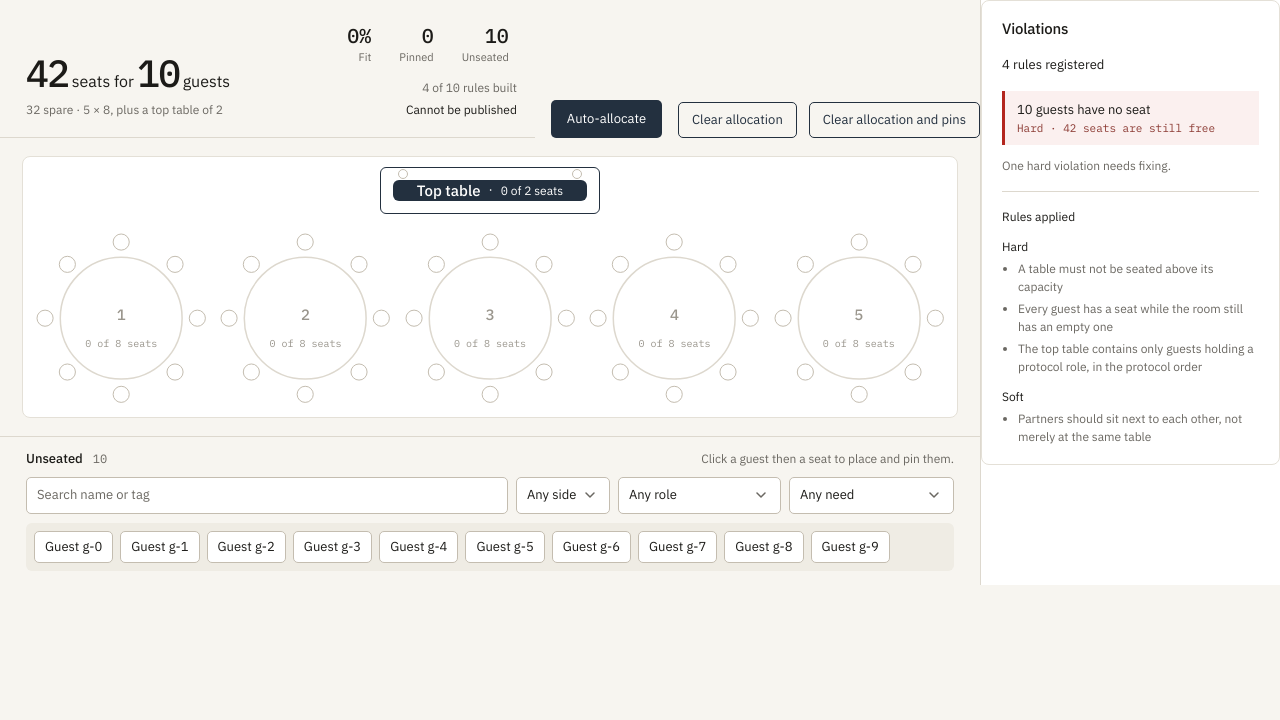
TT-48 — the coverage factor, driven end to end through the real PlanScreen › after Auto-allocate on a room with spare seats, Fit rises above zero and every violation clears (TT-47)
Click the button "Auto-allocate" at (606, 119), box left=551, top=100, right=662, bottom=138
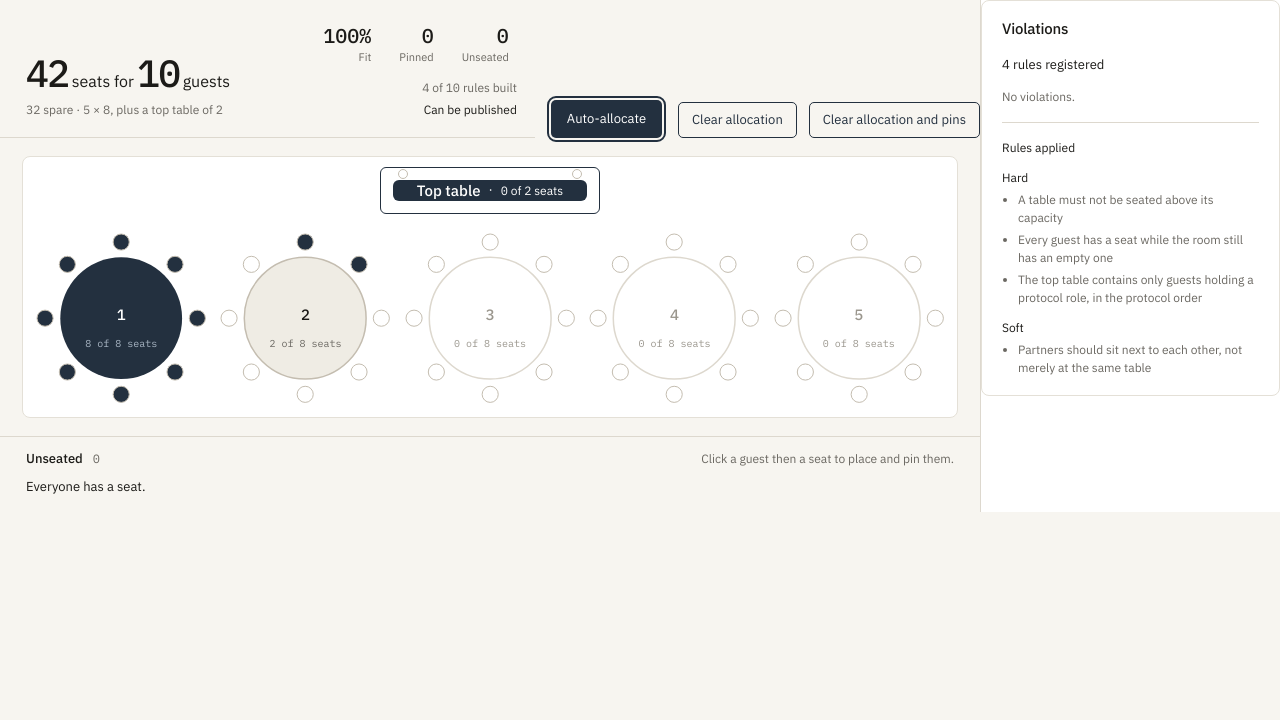
Result: the button "100% Fit" is shown at left=315, top=22, right=379, bottom=71
Result: the text "Can be published" is shown at left=424, top=101, right=517, bottom=119
Result: the text "No violations." is shown at left=1002, top=89, right=1075, bottom=104
